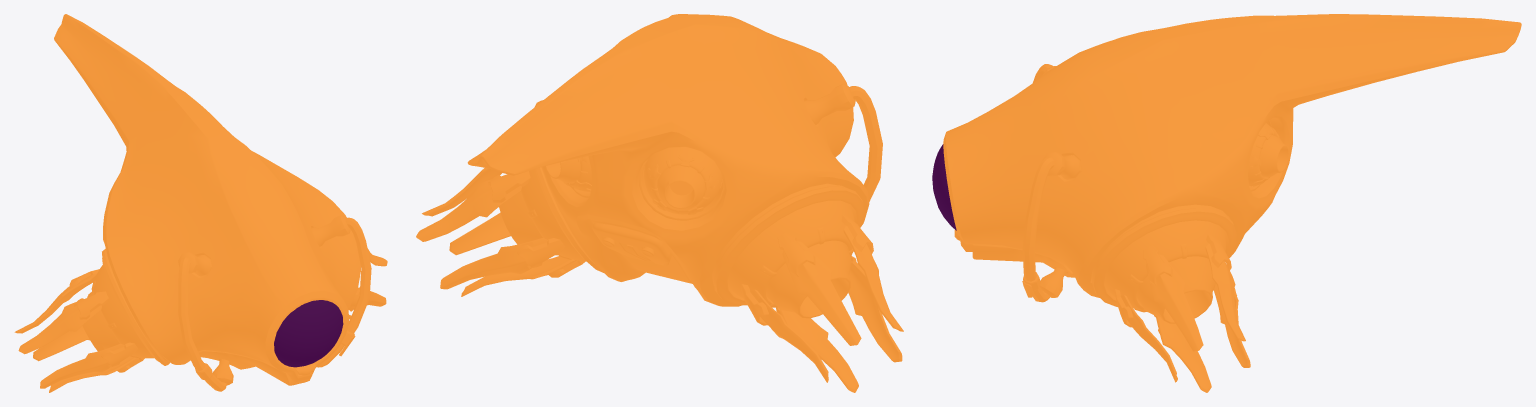
Rendered from Drone_mk3_low.fbx.
3 views of the same model, side by side, from view 1: azimuth 30°, elevation 25°; view 2: azimuth 150°, elevation 25°; view 3: azimuth 270°, elevation 25° (orthographic). The views are drawn at different scales.
Visible parts, largest first — view 1: Body_low, Glass_low; view 2: Body_low; view 3: Body_low, Glass_low.
Boxes of the visible parts, x1,y1,x2,y2 form: Body_low: (14,14,387,392); Glass_low: (274,300,343,367); Body_low: (416,14,903,392); Body_low: (943,14,1521,392); Glass_low: (932,144,956,230).
Size of the model in its own units: 10.2 by 6.61 by 12.12.
